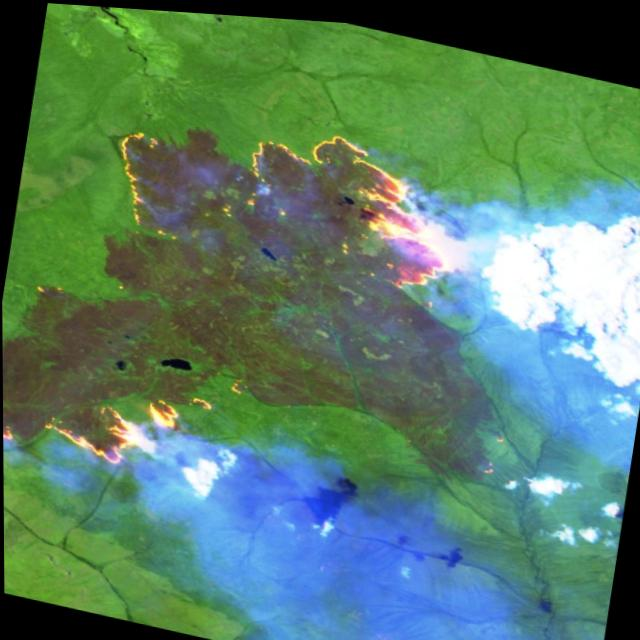fire: (105, 83, 480, 301), (2, 351, 215, 485), (222, 368, 252, 397)
